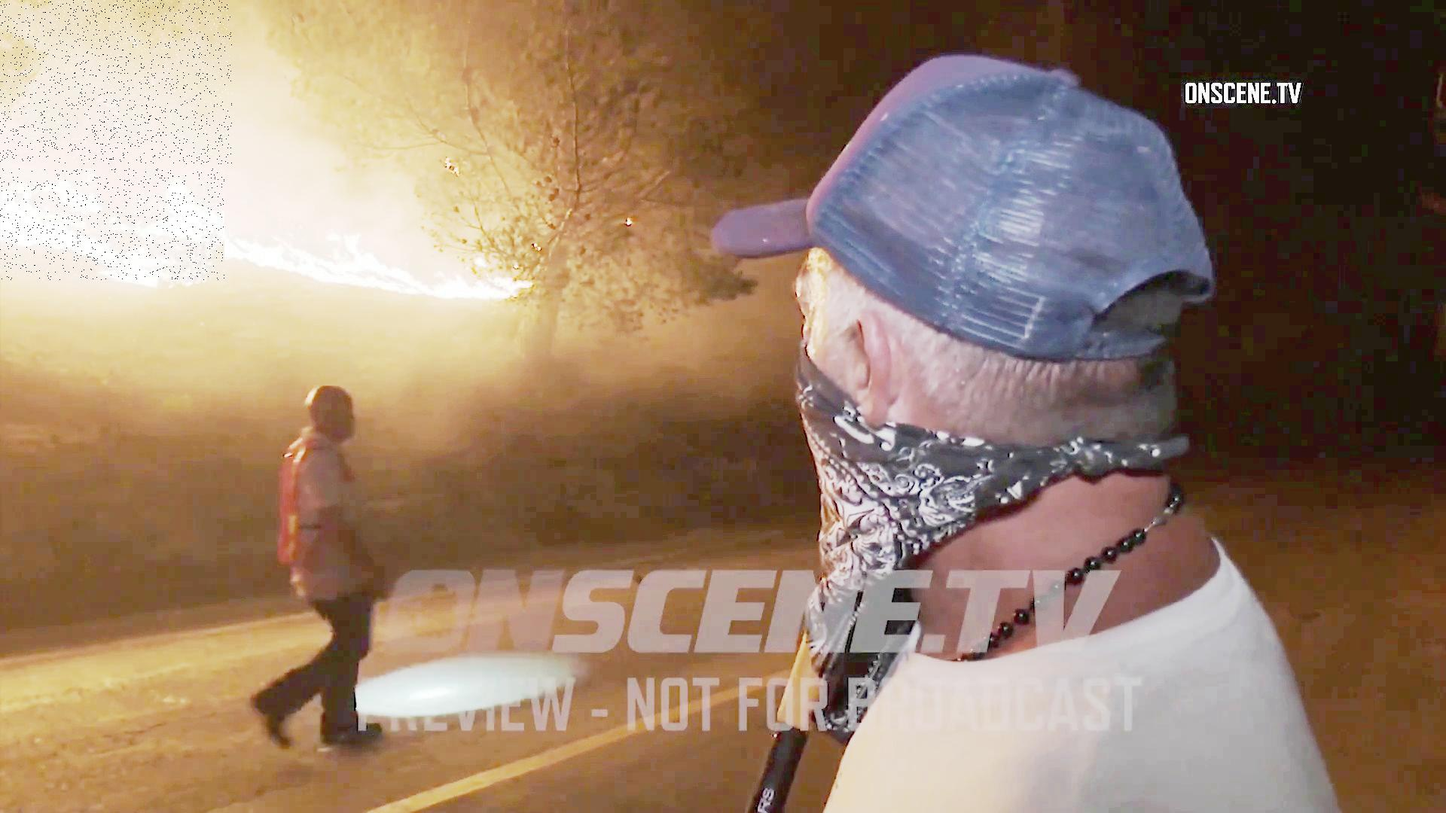fire: (0, 169, 224, 281)
smoke: (0, 0, 232, 164)
